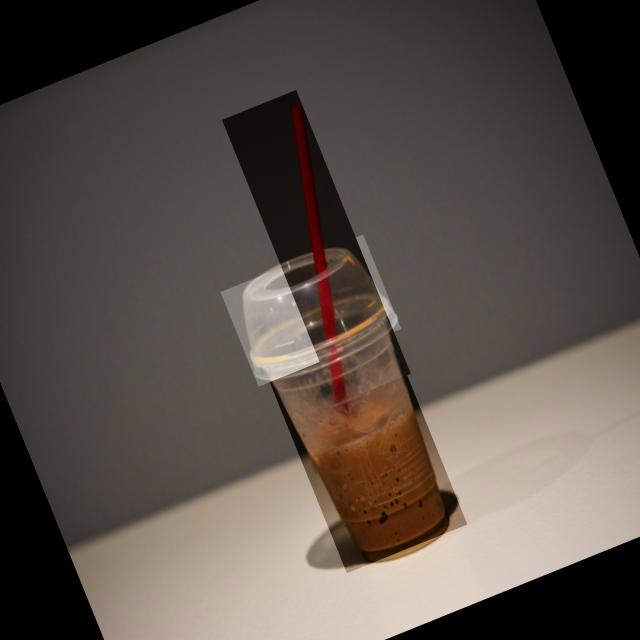Cup: (267, 328, 467, 572)
Lid: (220, 234, 402, 386)
Straw: (222, 89, 410, 403)
